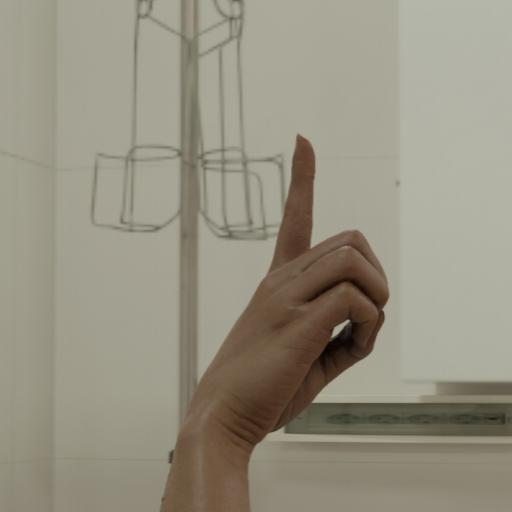D: (192, 109, 432, 461)
